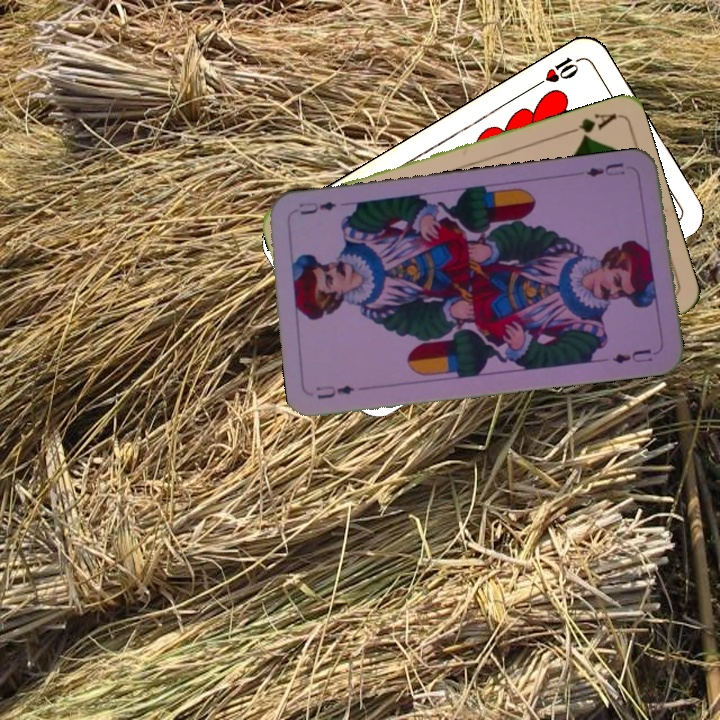EU: (582, 158, 628, 180), (311, 381, 357, 402)
GA: (561, 109, 619, 143)
H10: (531, 53, 585, 90)
